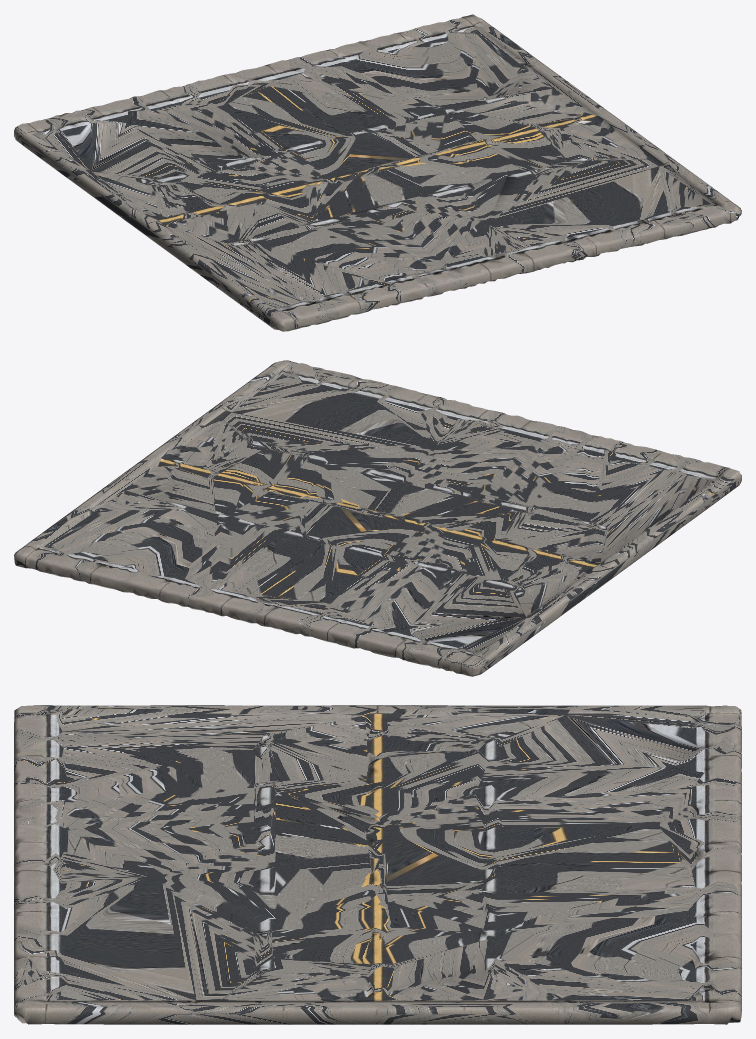
Rendered from roadseg_lod1.glb.
3 views of the same model, one above another, from view 1: azimuth 30°, elevation 25°; view 2: azimuth 150°, elevation 25°; view 3: azimuth 270°, elevation 25° (orthographic). The views are drawn at different scales.
Bounding box in the file's own units: 1.9 × 0.0479 × 1.9.
Materials: 1 (1 with a texture image).
